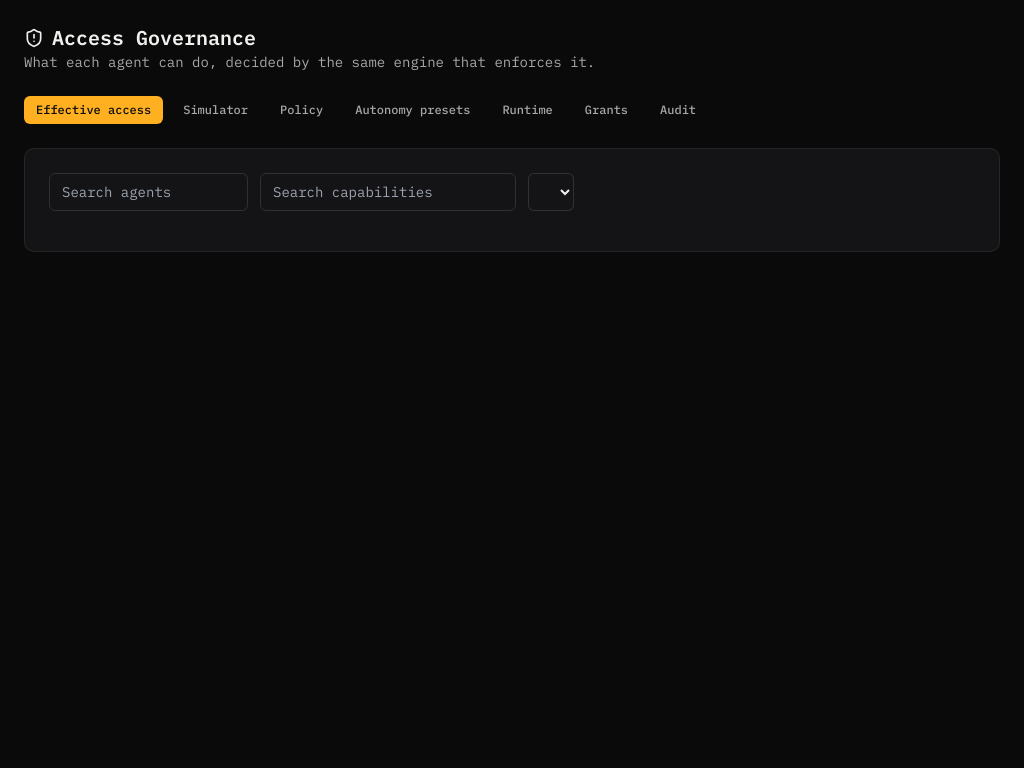
Scenario: capability names, descriptions and technical ids › names a grant and an audit entry, and shows the stored tool for an unknown one
The width and height of the screenshot is (1024, 768).
Click the button "Grants" at (606,110), box [573,96,640,124]
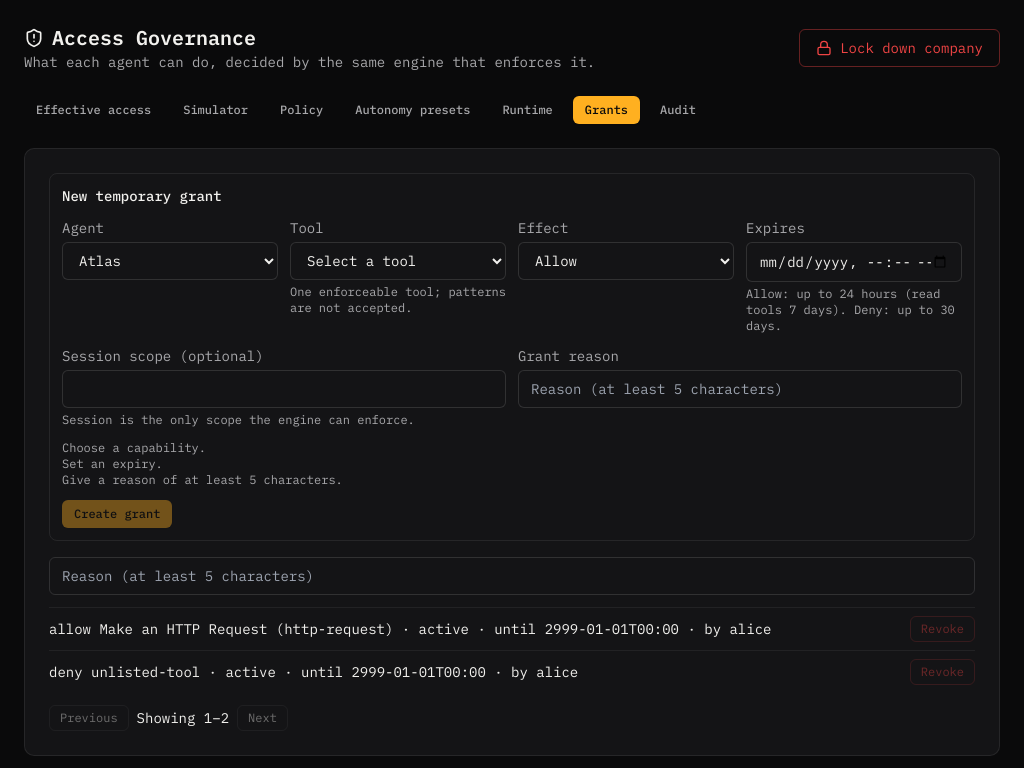
Result: the text "Make an HTTP Request (http-request)" is shown at [99,620,393,638]
Result: the text "deny unlisted-tool" is shown at [49,662,578,682]
Click the button "Audit" at (678,110), box [648,96,708,124]
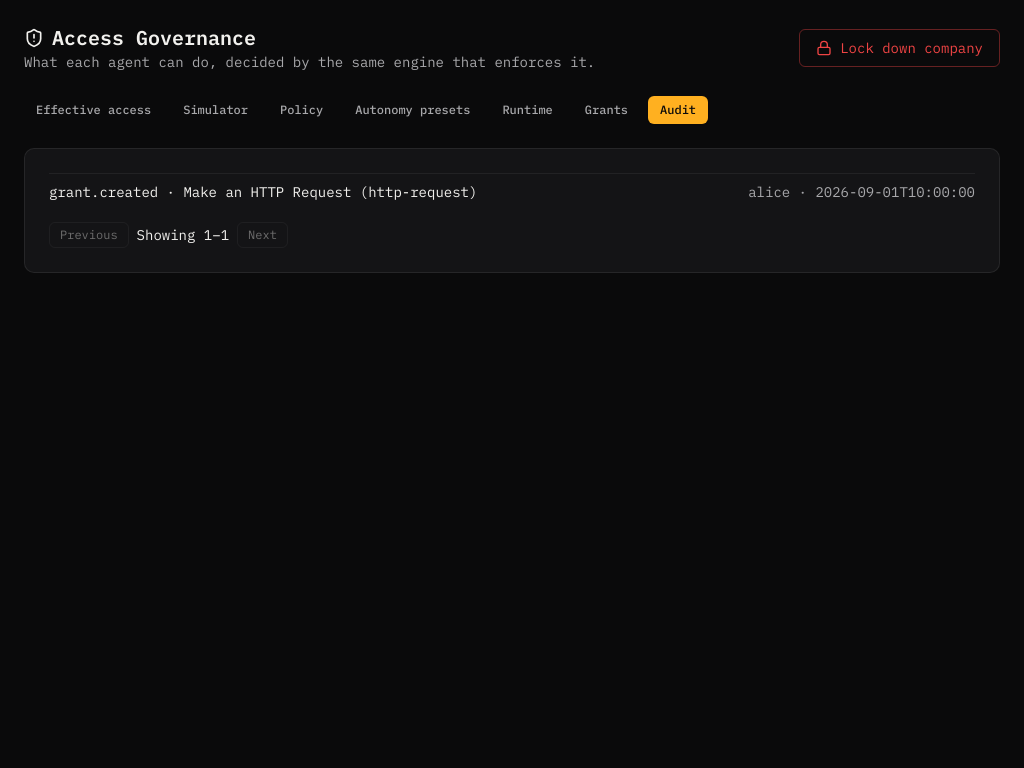
Result: the text "grant.created · Make an HTTP Request (http-request)" is shown at [49,182,477,202]
